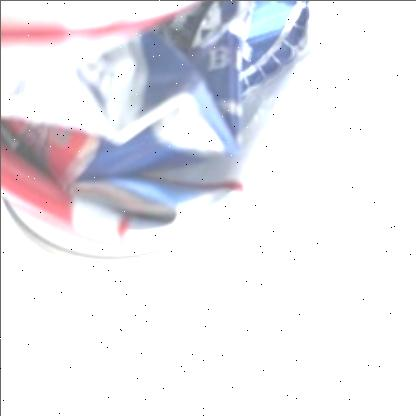Can: (0, 0, 312, 274)
